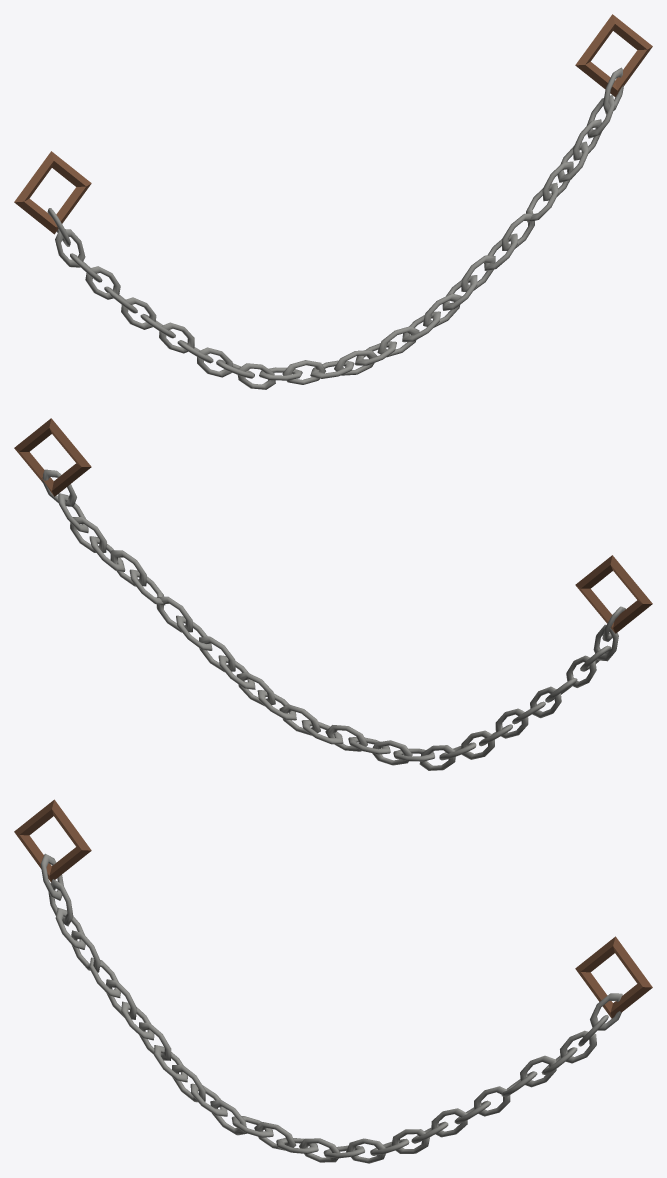
The model's file is Chainemurale2.fbx.
3 renders of one model, top to bottom at view 1: azimuth 30°, elevation 25°; view 2: azimuth 150°, elevation 25°; view 3: azimuth 330°, elevation 25°, orthographic.
Parts seen in each view (by area): view 1: snapshot8Group_transform83_11; view 2: snapshot8Group_transform83_11; view 3: snapshot8Group_transform83_11.
Boxes of the visible parts, box(x1,y1,x2,y2) form: snapshot8Group_transform83_11: box(14, 14, 652, 389); snapshot8Group_transform83_11: box(14, 418, 652, 770); snapshot8Group_transform83_11: box(14, 799, 652, 1163).
Bounding box in the file's own units: 410 × 172 × 30.83.
